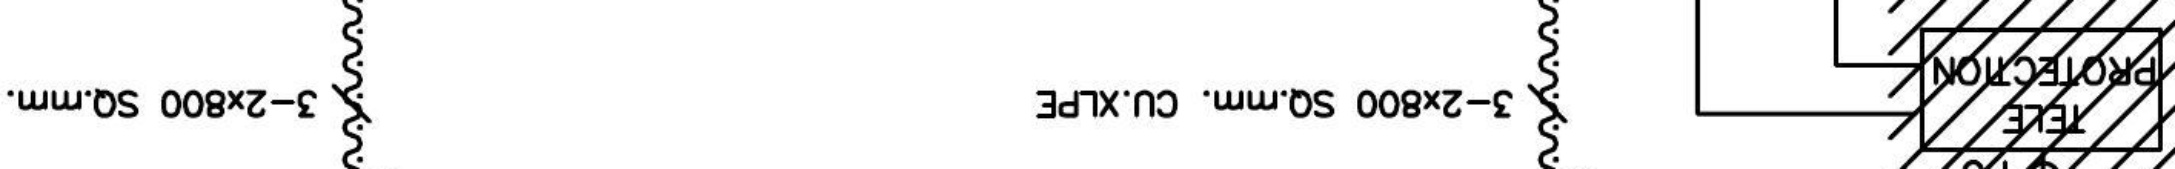tele_protection: (1916, 24, 2167, 157)
